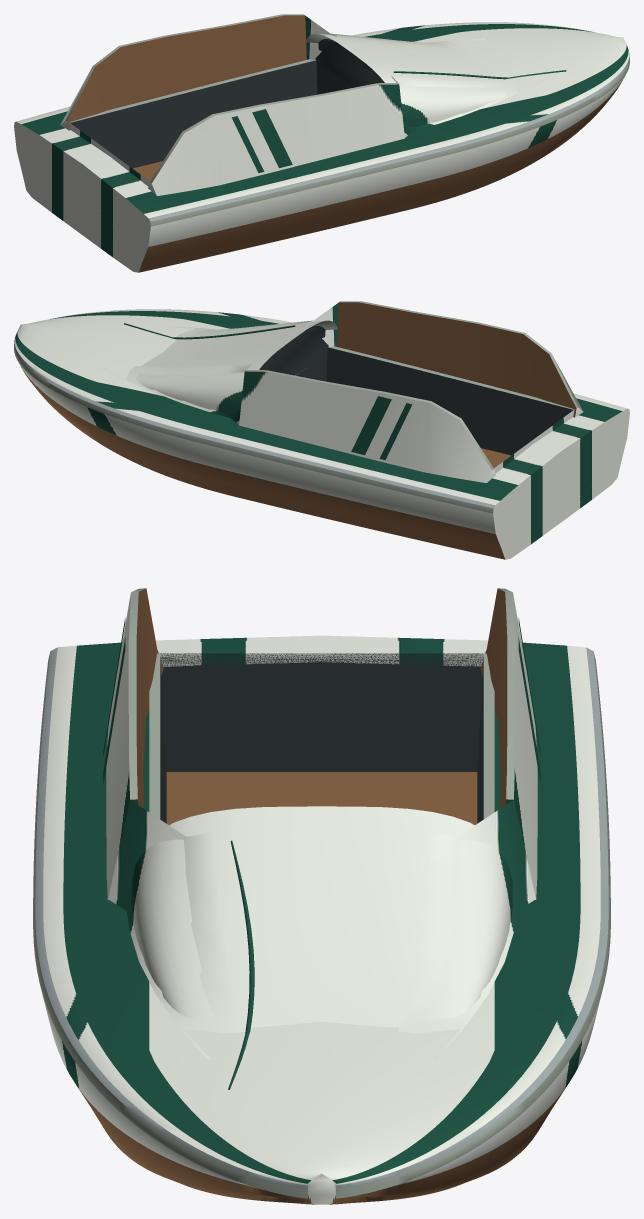
The model's file is Hull_05_N_深緑・白縁.glb.
The picture shows the model from 3 angles, top to bottom: view 1: azimuth 30°, elevation 25°; view 2: azimuth 150°, elevation 25°; view 3: azimuth 270°, elevation 25°; orthographic projection. The views are drawn at different scales.
Visible parts, largest first — view 1: Hull_05_N; view 2: Hull_05_N; view 3: Hull_05_N.
Boxes of the visible parts, <box> form: Hull_05_N: <box>14,14,629,272</box>; Hull_05_N: <box>14,301,629,559</box>; Hull_05_N: <box>33,588,610,1204</box>.
Size of the model in its own units: 2.9 by 0.6856 by 1.34.
4 materials, 4 textured.
